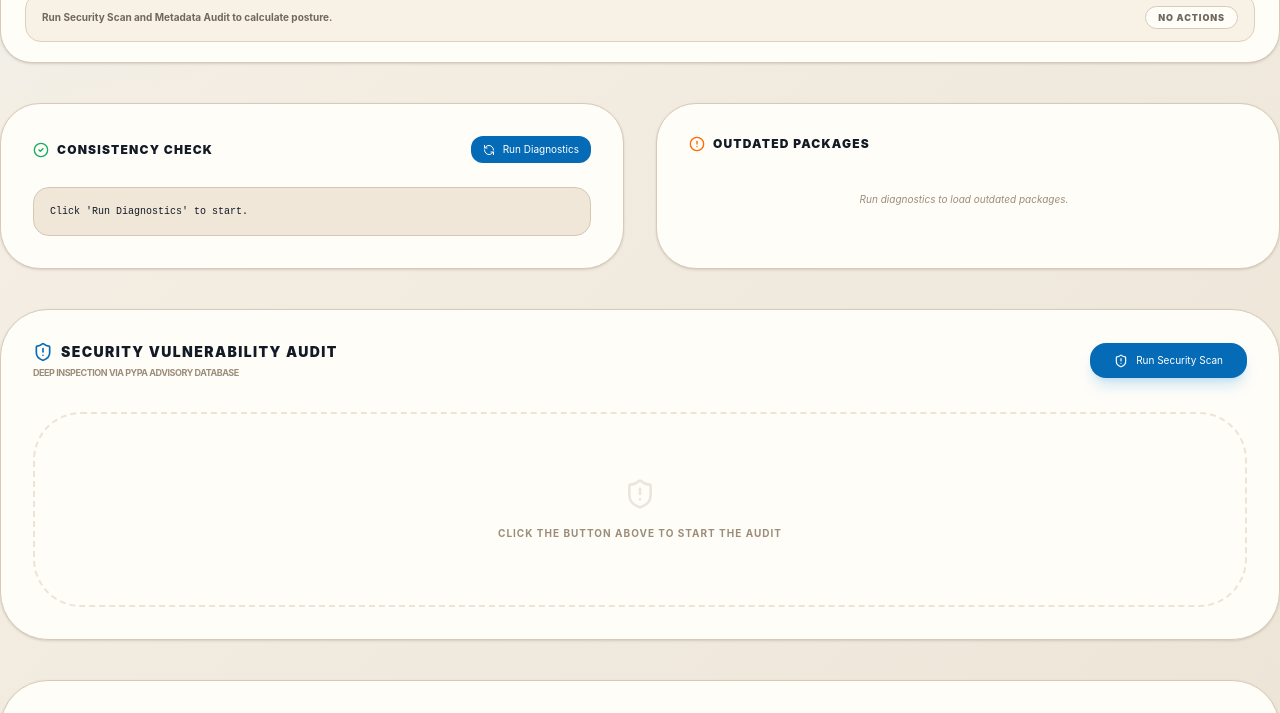
Test: product harness coverage › keeps missing security tooling read-only for native Conda environments
(page scrolled)
Step 1. Click the button "Run Security Scan" → click(1169, 361), box x1=1090 y1=343 x2=1247 y2=378
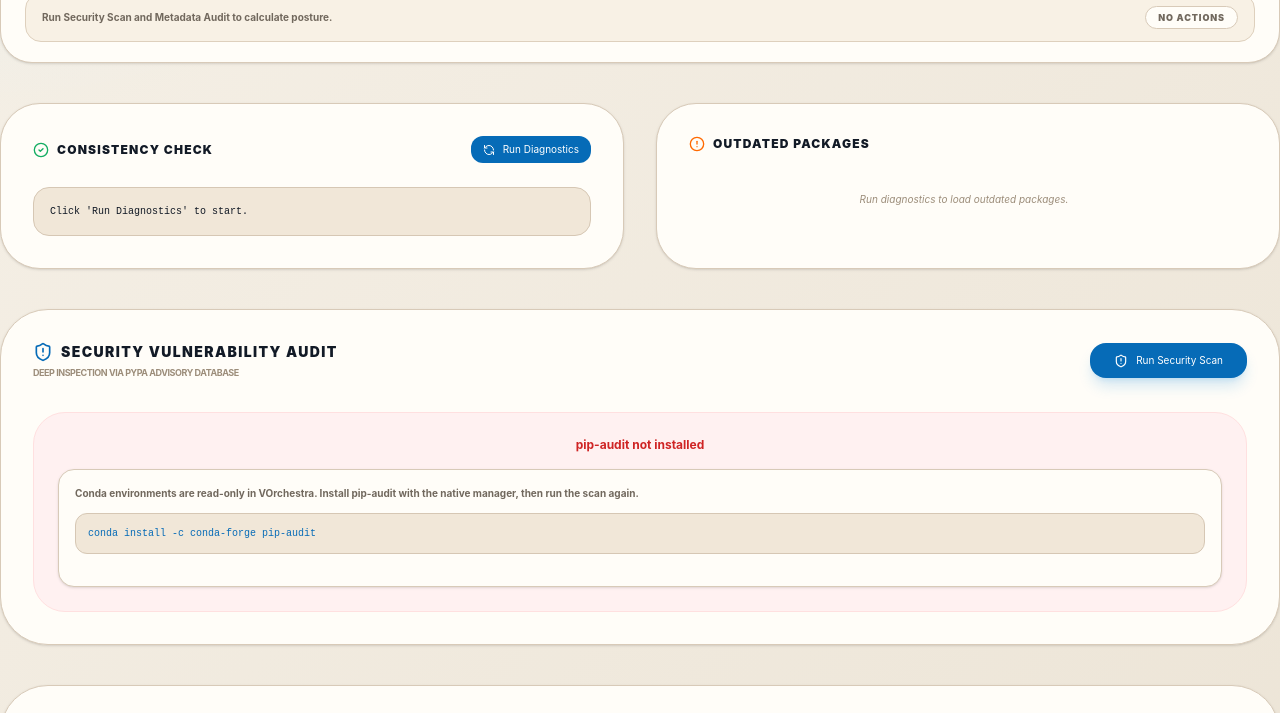
Check: the text "Conda environments are read-only in VOrchestra" is shown, box x1=75 y1=486 x2=639 y2=498
Check: the text "conda install -c conda-forge pip-audit" is shown, box x1=75 y1=512 x2=1205 y2=554
